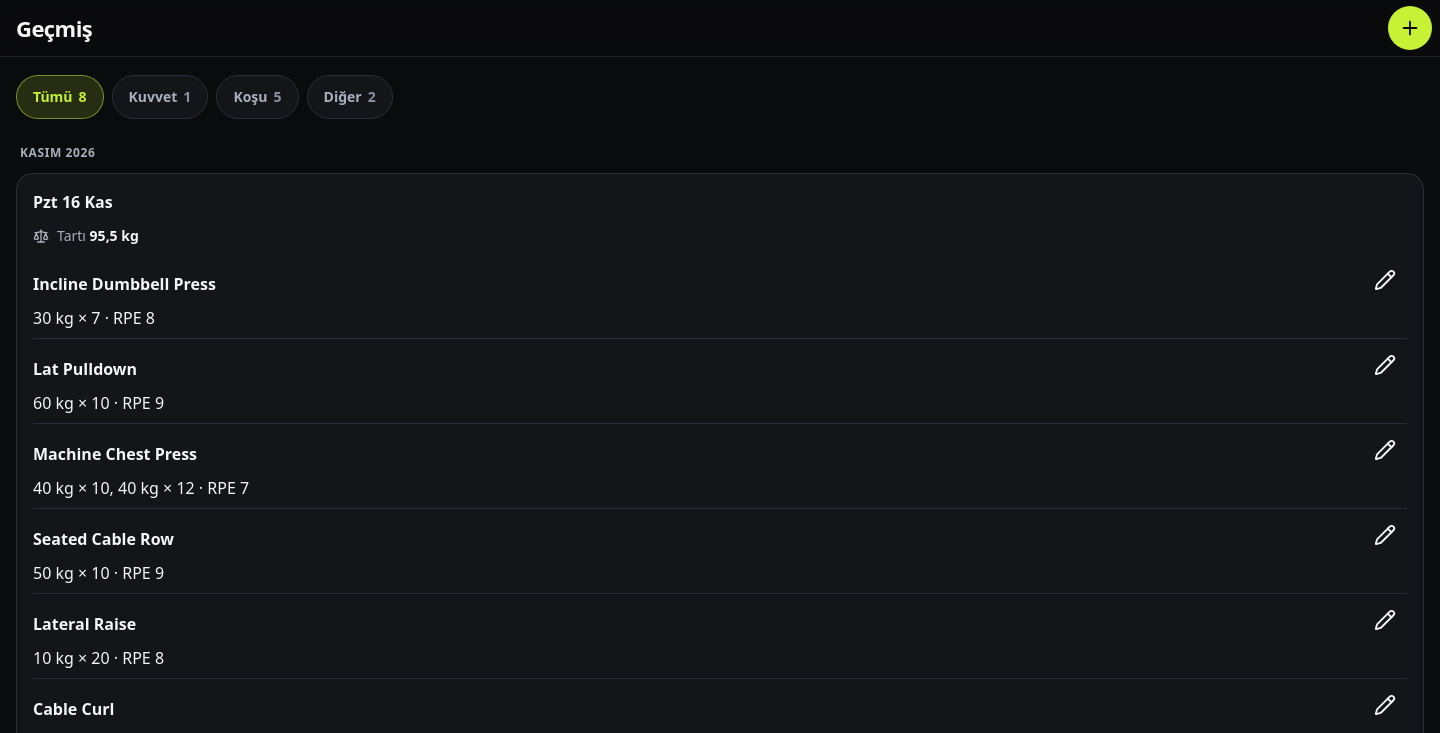
Test: HistoryScreen › counts days per filter and narrows the feed
The width and height of the screenshot is (1440, 733).
Expected: the radio button labelled "Tümü 8" is checked, [16,75,104,119]
Expected: the radio button labelled "Kuvvet 1" is shown, [112,75,208,119]
Click the radio button labelled "Diğer 2" at (350, 97), box [306,75,393,119]
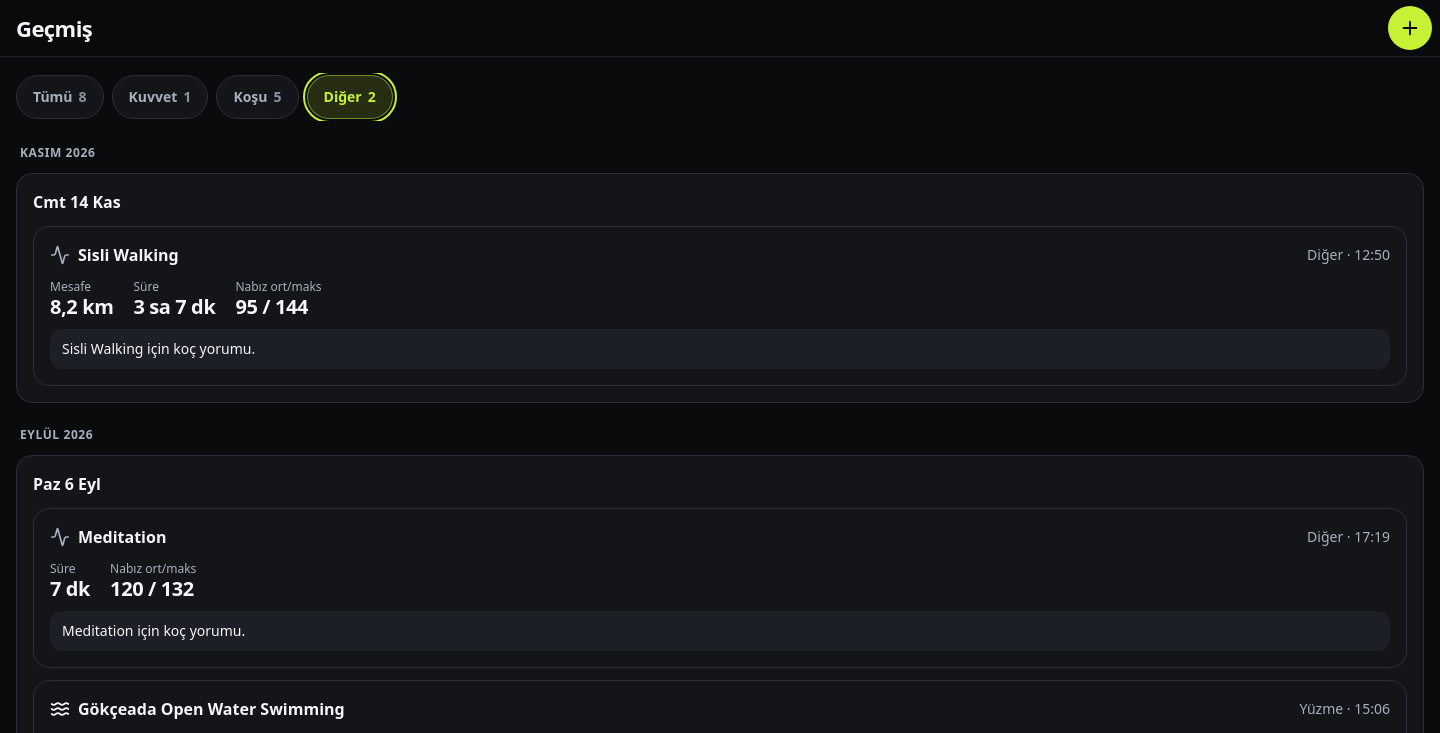
Expected: the text "Sisli Walking" is shown, [78,243,179,267]
Expected: the link "Machine Chest Press" is gone
